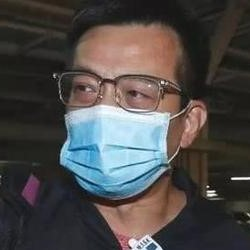mask: (53, 89, 181, 204)
